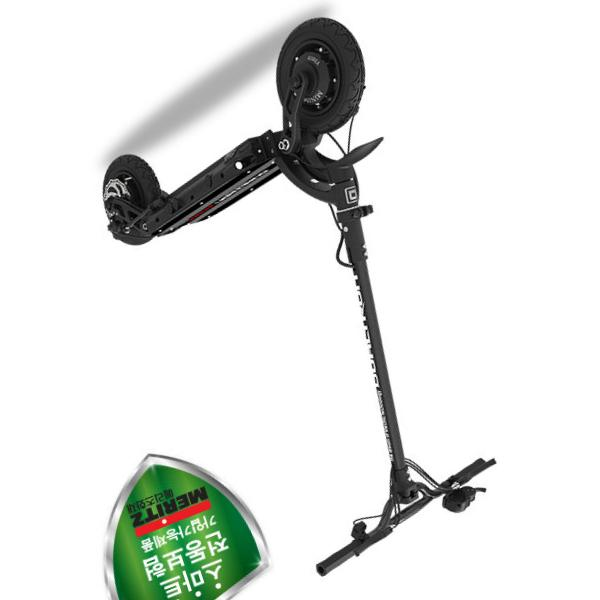scooter: (103, 17, 498, 578)
